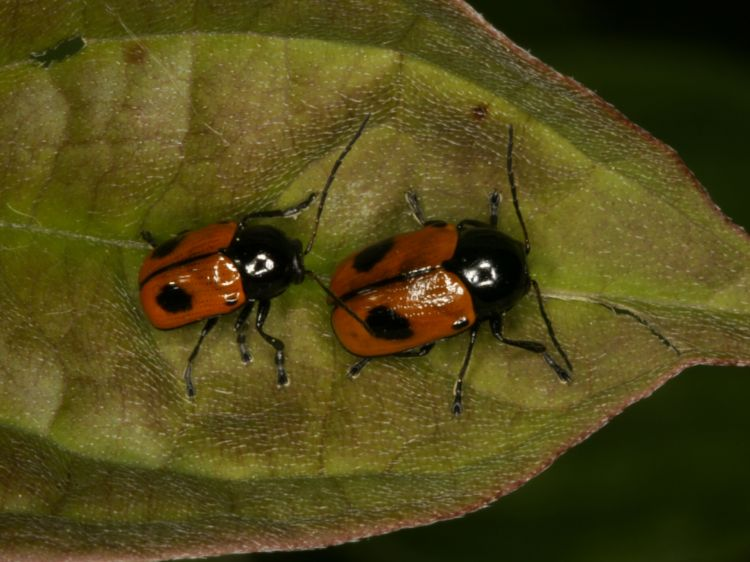Cryptocephalus_bipunctatus: (328, 122, 577, 418), (111, 166, 330, 389)
